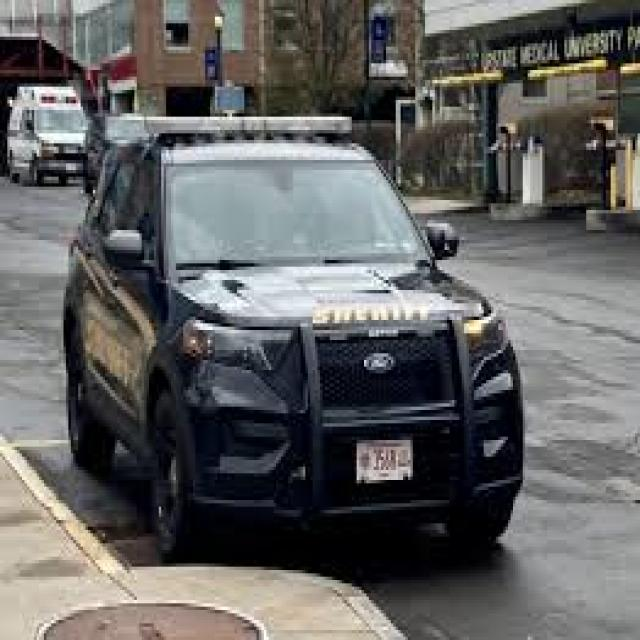cop: (59, 112, 525, 560)
